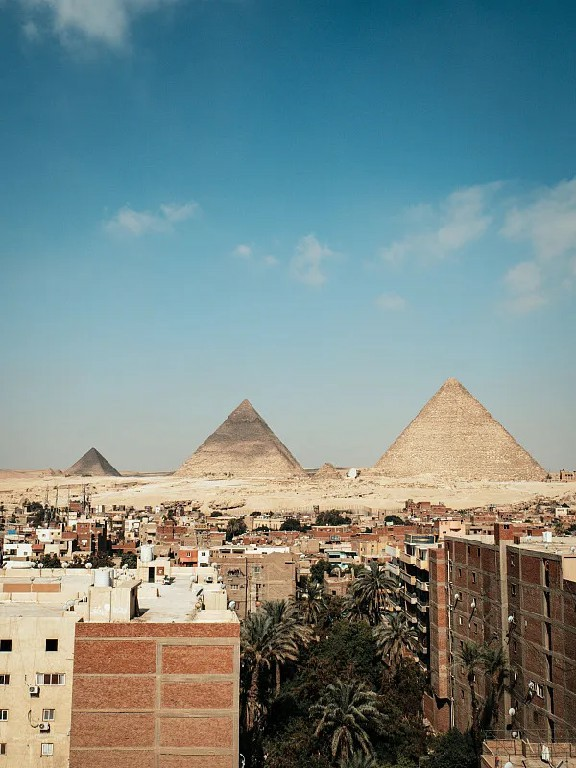Pyramid: (374, 376, 553, 483), (173, 399, 307, 477), (66, 446, 126, 477)
